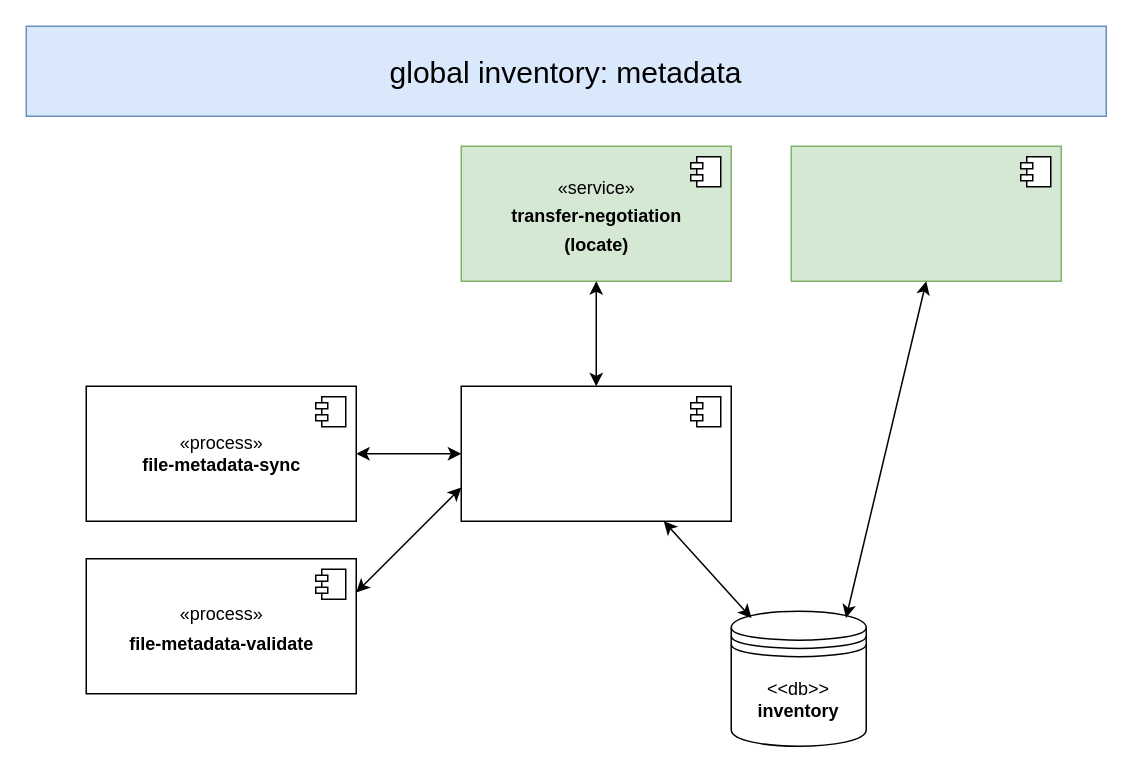
Some shapes in this 1133 by 773 pixel diagram are drawn without their labels. The shapes that lost their labels are listed below. From the top down, each one's centre as x and y in pixels, then its label:
the point at 925,213: «service» tap (query)
the point at 595,453: «library» inventory-db
